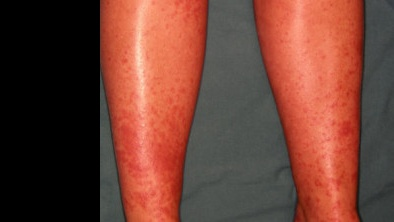SJS-TEN: (249, 0, 374, 222), (99, 0, 214, 222)
